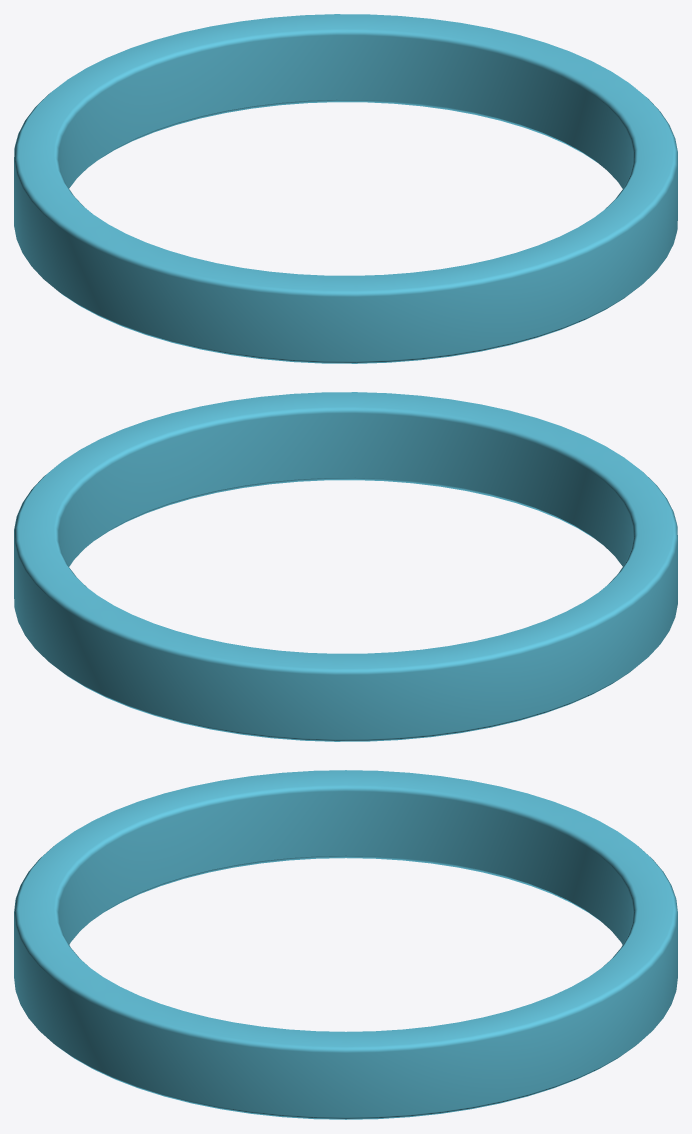
The picture shows the model from 3 angles, top to bottom: view 1: azimuth 30°, elevation 25°; view 2: azimuth 150°, elevation 25°; view 3: azimuth 270°, elevation 25°; orthographic projection.
Visible parts, largest first — view 1: seal_body; view 2: seal_body; view 3: seal_body.
Boxes of the visible parts, left/top/right/bottom form: seal_body: left=14, top=14, right=677, bottom=363; seal_body: left=14, top=392, right=677, bottom=741; seal_body: left=14, top=770, right=677, bottom=1119.
Bounding box in the file's own units: 0.1174 × 0.0143 × 0.1174.
